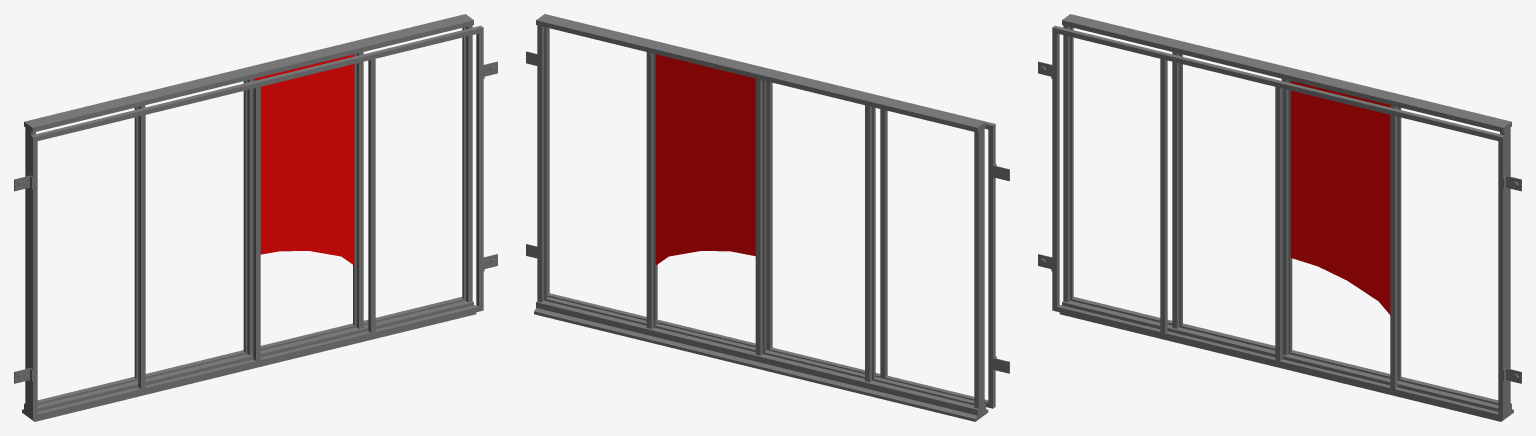
File: Window04_Broken04.fbx
3 views of the same model, side by side, from view 1: azimuth 30°, elevation 25°; view 2: azimuth 150°, elevation 25°; view 3: azimuth 330°, elevation 25° (orthographic).
Visible parts, largest first — view 1: Window04_Broken04; view 2: Window04_Broken04; view 3: Window04_Broken04.
Part boxes in pixels (x1,y1,x2,y2): Window04_Broken04: (14,14,497,421); Window04_Broken04: (526,14,1009,421); Window04_Broken04: (1038,14,1521,421).
Size of the model in its own units: 263 by 152 by 14.75.
